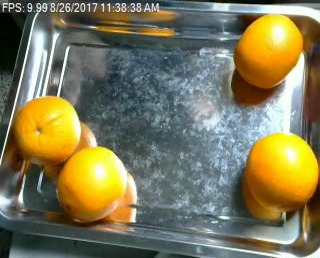Orange: (245, 132, 319, 212), (56, 146, 127, 222), (234, 12, 303, 89), (14, 94, 81, 162)
